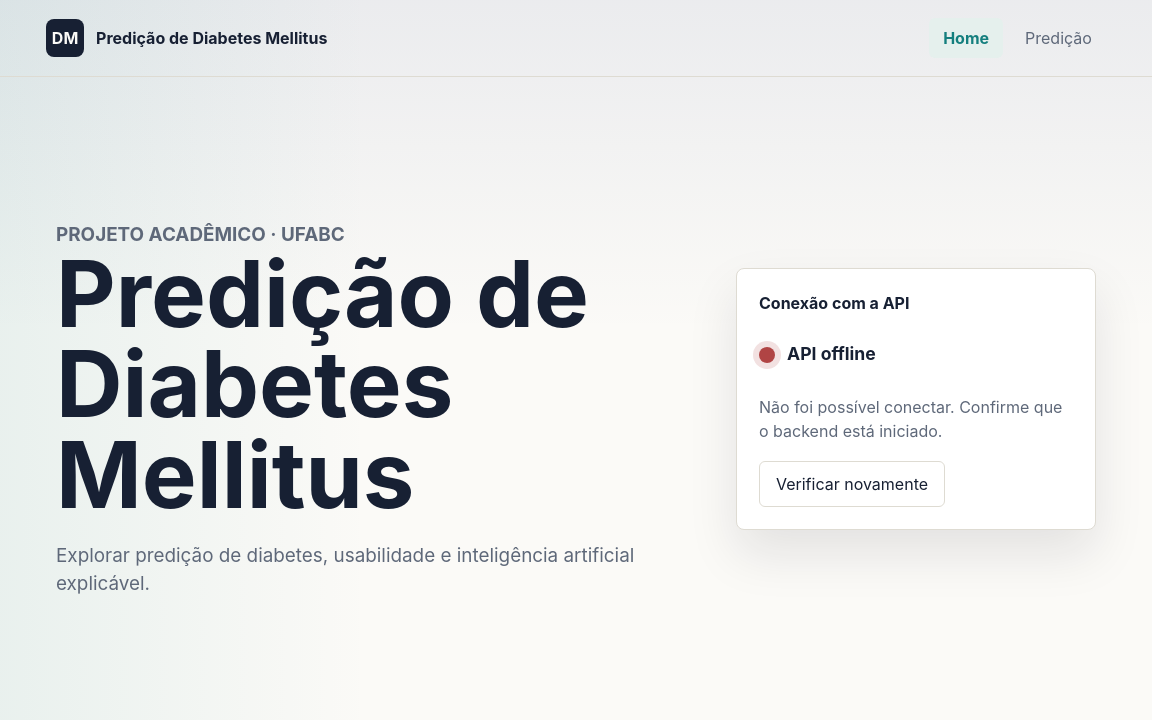
Test: App › recovers when the backend becomes available and the user retries
Check: the message reads "API offline", box [787, 343, 876, 364]
Click the button "Verificar novamente": (852, 484) [759, 460, 945, 506]
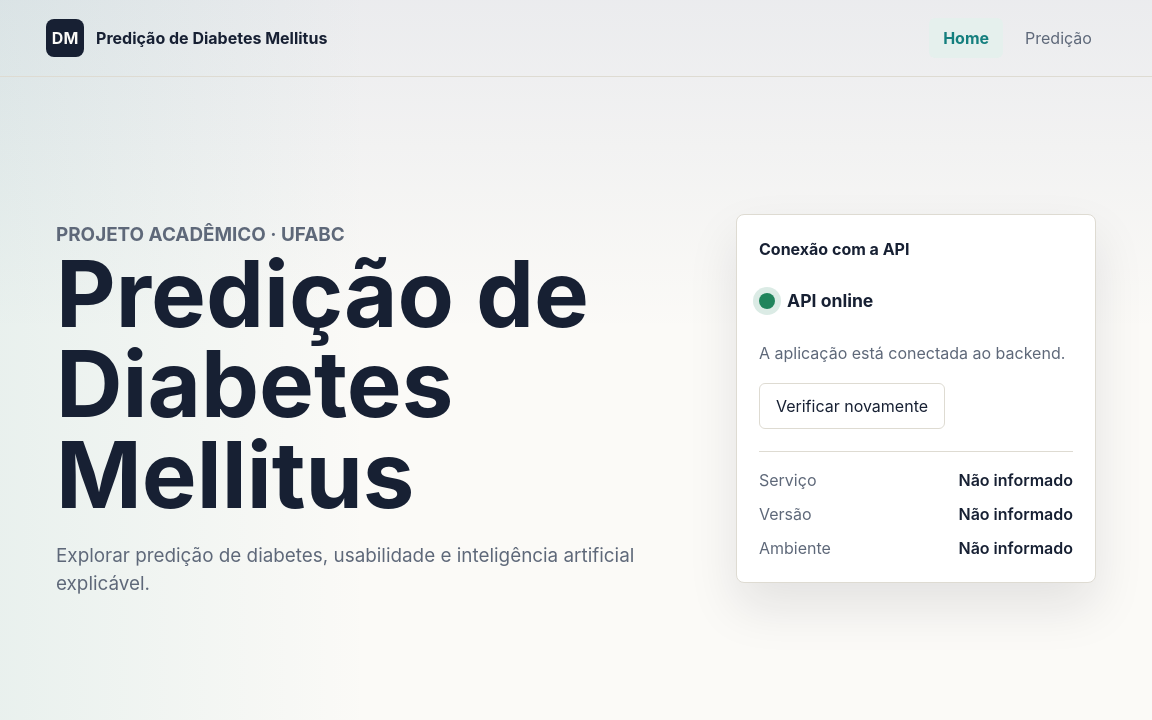
Check: the message reads "API online", box [787, 290, 873, 311]
